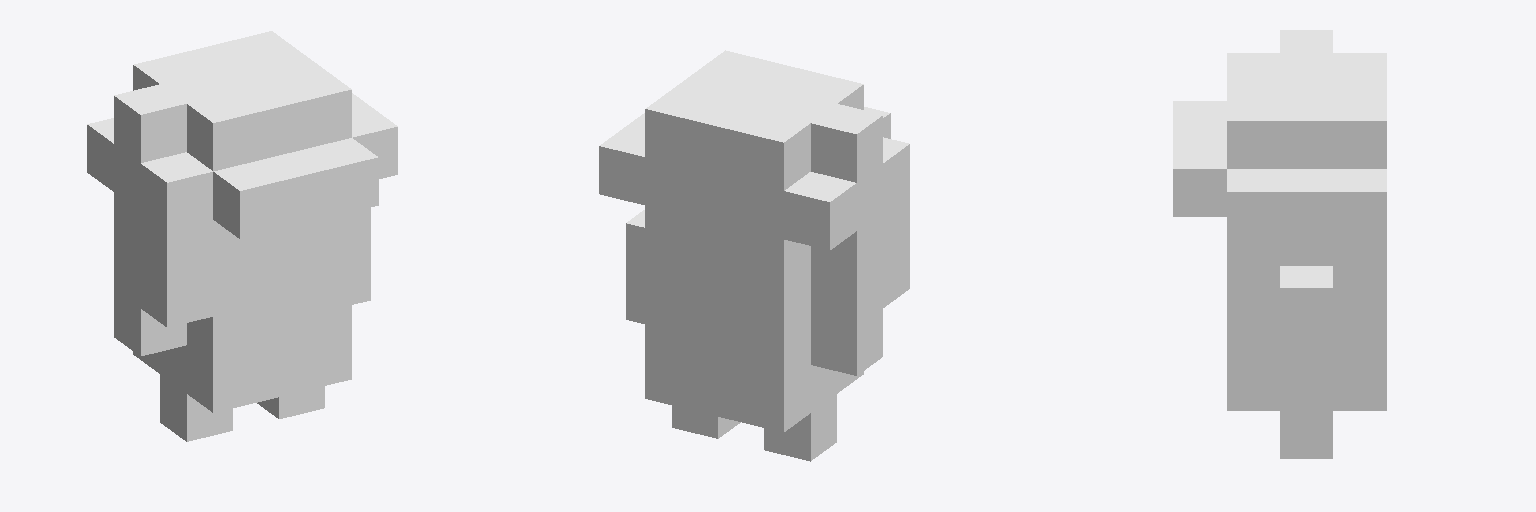
The model's file is KnightDetailed.obj.
The picture shows the model from 3 angles: view 1: azimuth 30°, elevation 25°; view 2: azimuth 150°, elevation 25°; view 3: azimuth 270°, elevation 25°; orthographic projection.
Visible parts, largest first — view 1: GnomeWarriorDetailed; view 2: GnomeWarriorDetailed; view 3: GnomeWarriorDetailed.
Boxes of the visible parts, box(x1,y1,x2,y2) form: GnomeWarriorDetailed: box(87, 31, 397, 441); GnomeWarriorDetailed: box(599, 50, 909, 461); GnomeWarriorDetailed: box(1173, 30, 1386, 458).
Bounding box in the file's own units: 0.5 × 0.7 × 0.4.